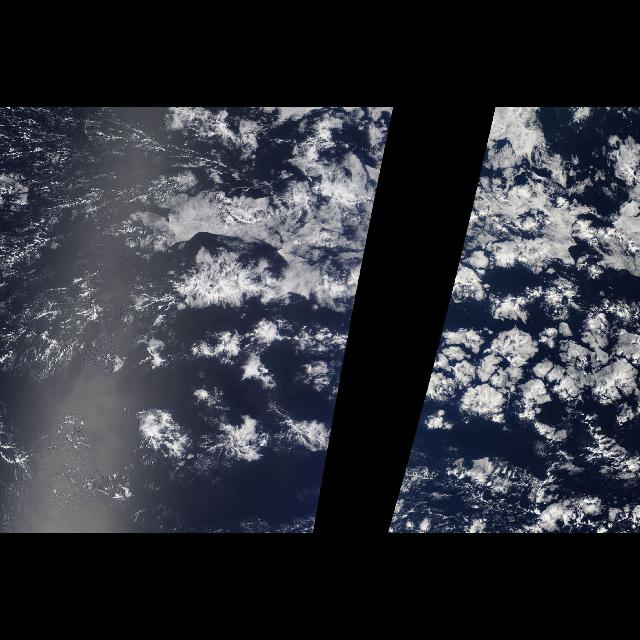Flower: (400, 124, 640, 483), (130, 308, 354, 484)
Sugar: (0, 108, 166, 478)
